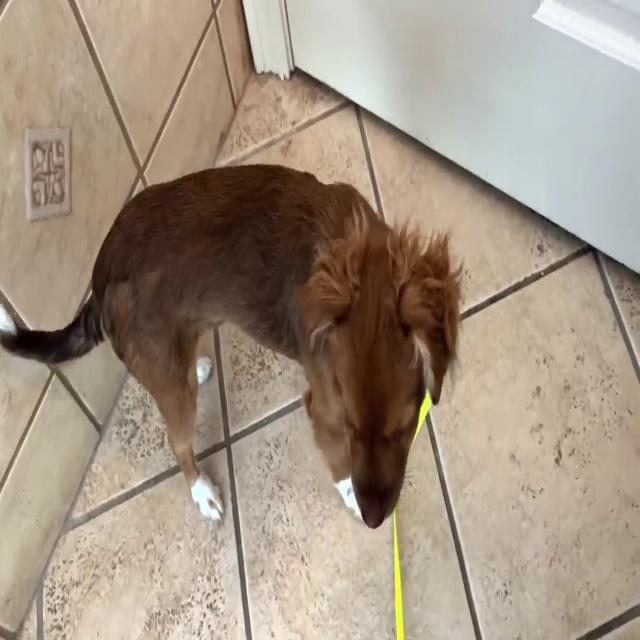Dog: (0, 164, 466, 528)
